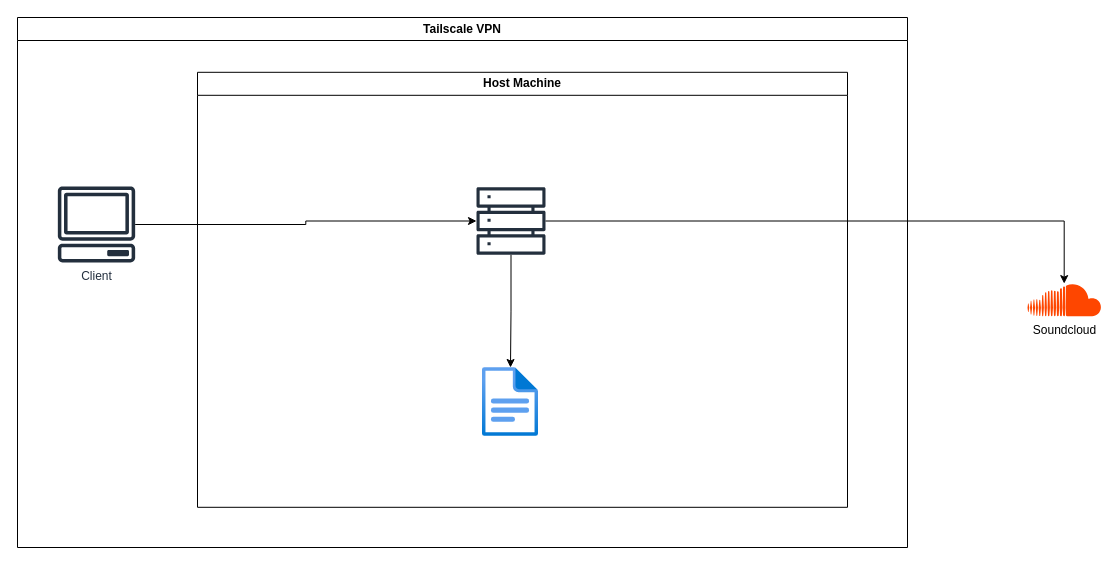
The diagram is 1118 pixels wide and 565 high, and some of its shapes have lost their labels. The box of each missing label's shape, as (x1, y1, x2, y2) in pixels:
Next.js WebApp: (476, 186, 545, 255)
SQLite DB: (482, 367, 538, 436)
